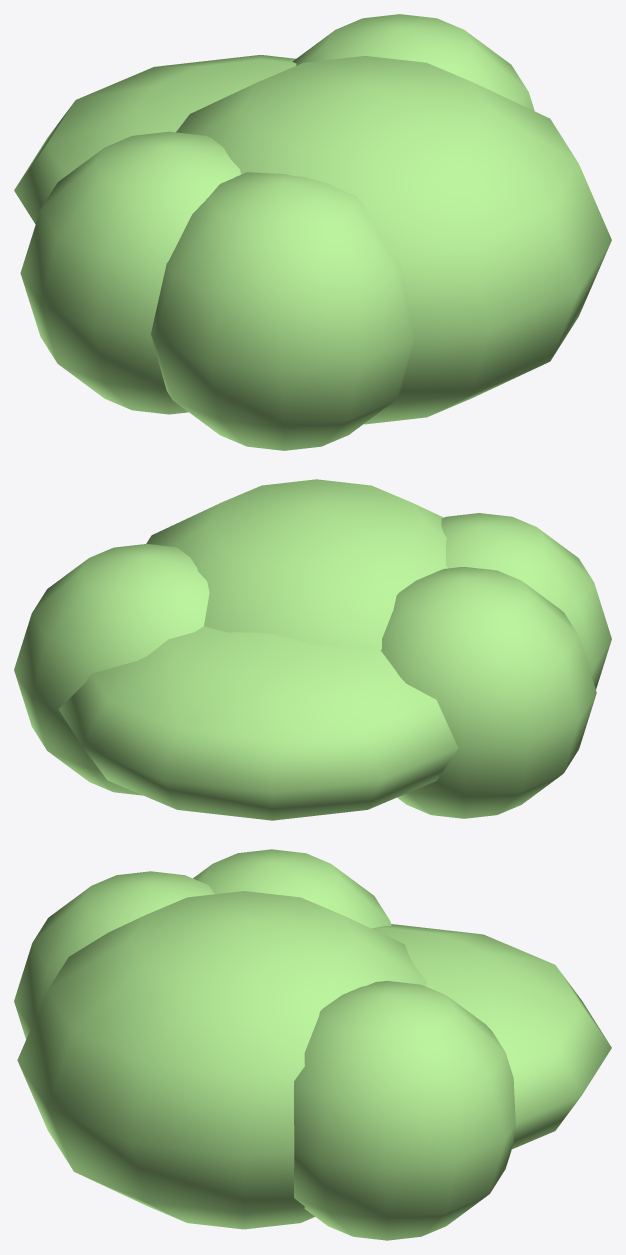
Rendered from plasta.fbx.
The picture shows the model from 3 angles, top to bottom: view 1: azimuth 30°, elevation 25°; view 2: azimuth 150°, elevation 25°; view 3: azimuth 270°, elevation 25°; orthographic projection. The views are drawn at different scales.
Visible parts, largest first — view 1: plasta; view 2: plasta; view 3: plasta.
Part boxes in pixels (x1=…): plasta: x1=14, y1=14, x2=611, y2=450; plasta: x1=14, y1=479, x2=611, y2=820; plasta: x1=14, y1=849, x2=611, y2=1240.
Bounding box in the file's own units: 17.28 × 9.14 × 17.67.
